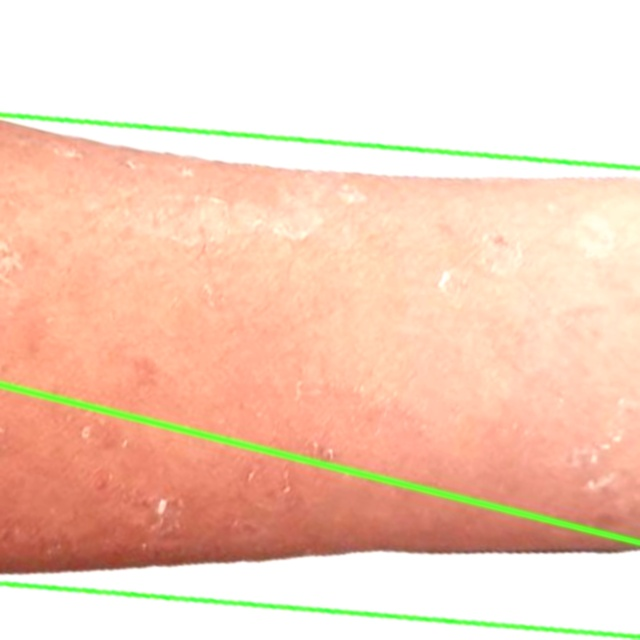Tinea Corporis: (0, 125, 639, 626)
